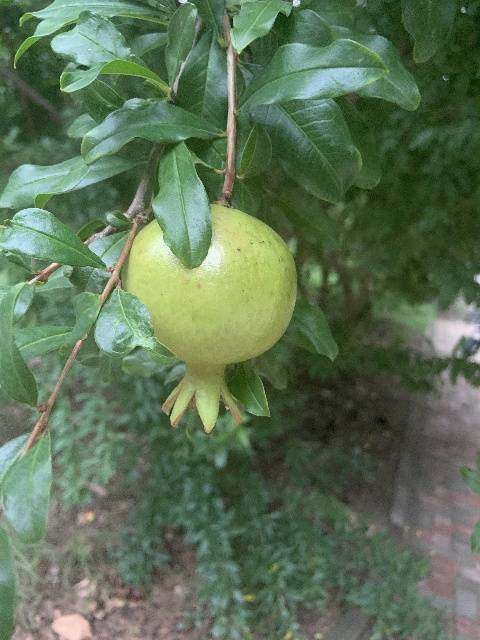mid-growth: (118, 203, 296, 432)
